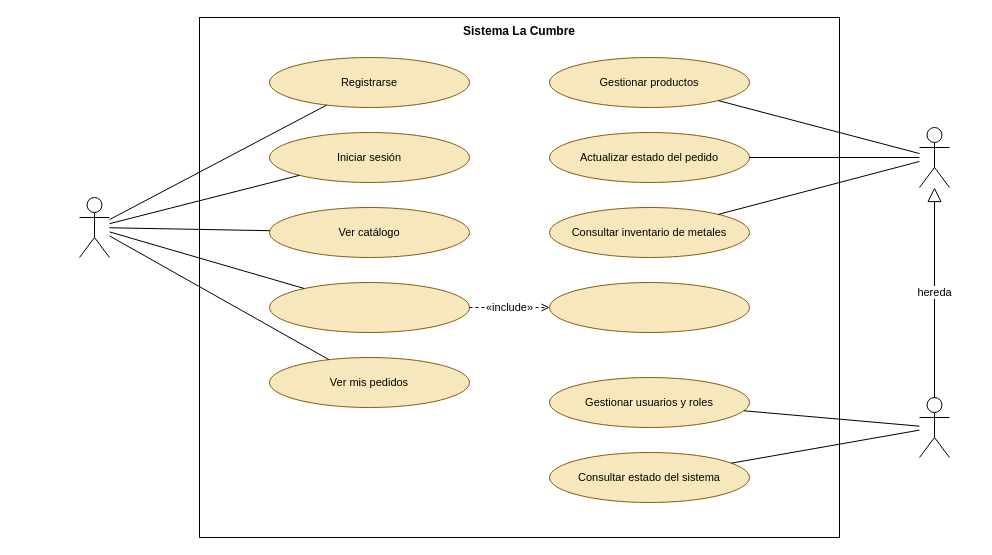
This 992x555 diagram has some shape labels left out. The box of each missing label's shape, as (x1, y1, x2, y2) in pixels:
Administrador: (918, 126, 950, 188)
Desarrollador: (918, 396, 950, 458)
Realizar pedido: (268, 282, 470, 332)
Usuario (cliente mayorista): (78, 196, 110, 258)
Verificar stock del producto: (548, 282, 750, 332)
